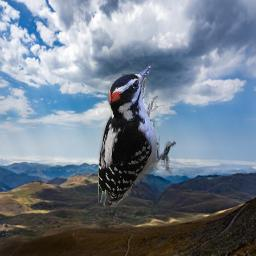Woodpecker: (98, 63, 176, 207)
